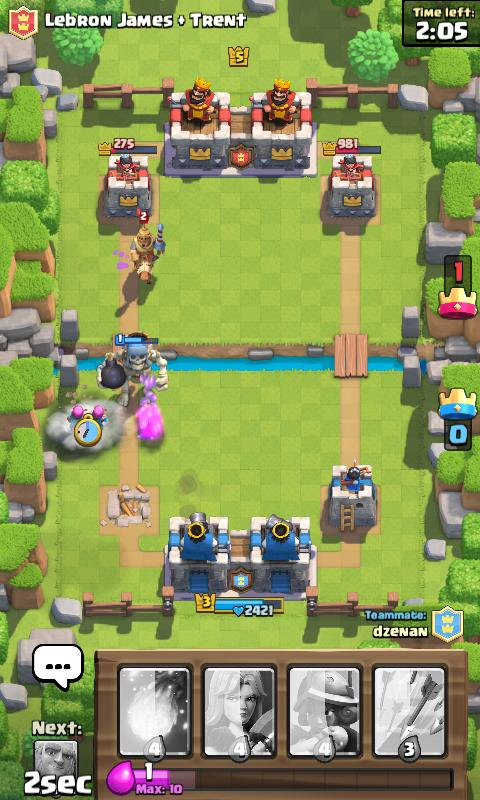ally_archer: (88, 403, 109, 428), (65, 403, 86, 426)
ally_giant_skeleton: (94, 330, 169, 406)
enemy_prince: (127, 208, 166, 285)
